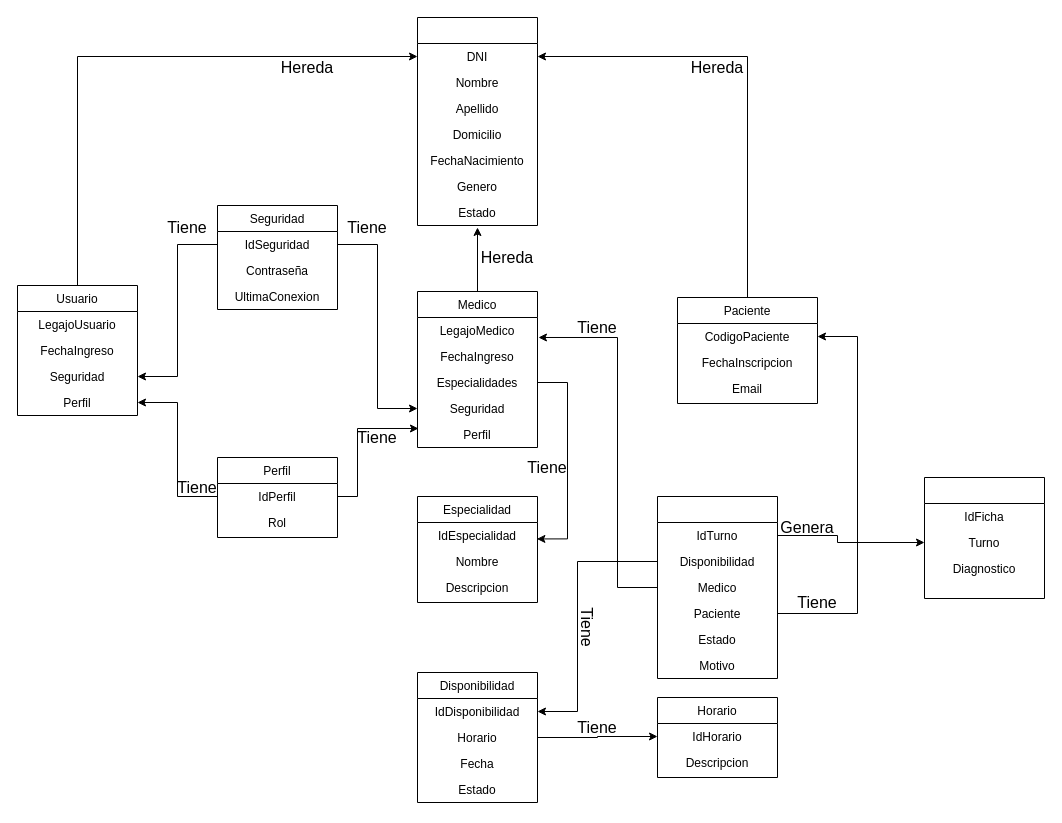
Image size: 1062x823. Some labels were removed from this diagram. The shapes that lost their labels are listed below. From the top down, each one's box as (x1, y1, x2, y2) in pixels, then its label:
(416, 16, 538, 226): PERSONA
(924, 476, 1044, 598): FichaMedica
(656, 496, 778, 678): Turnos
